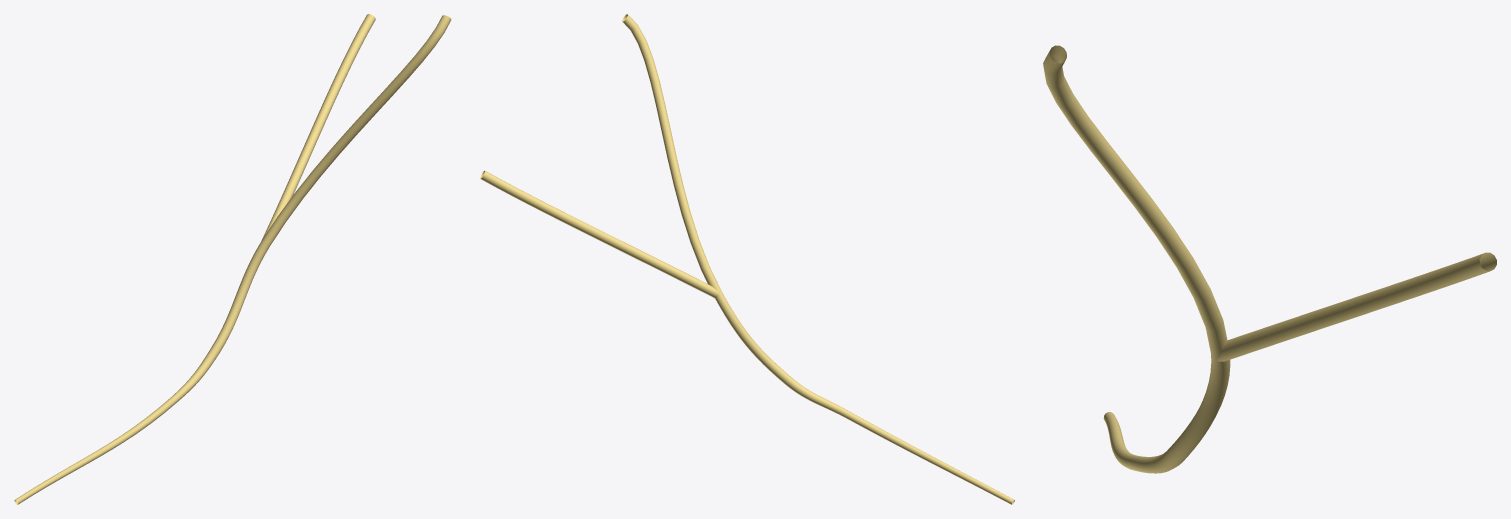
The picture shows the model from 3 angles, left to right: view 1: azimuth 30°, elevation 25°; view 2: azimuth 150°, elevation 25°; view 3: azimuth 270°, elevation 25°; orthographic projection. The views are drawn at different scales.
Parts seen in each view (by area): view 1: ZA_74e36e1acb81814c; view 2: ZA_74e36e1acb81814c; view 3: ZA_74e36e1acb81814c.
Part boxes in pixels (x1=…): ZA_74e36e1acb81814c: x1=14, y1=14, x2=451, y2=504; ZA_74e36e1acb81814c: x1=480, y1=14, x2=1014, y2=504; ZA_74e36e1acb81814c: x1=1043, y1=45, x2=1496, y2=473.
Bounding box in the file's own units: 0.0526 × 0.0438 × 0.0235.
